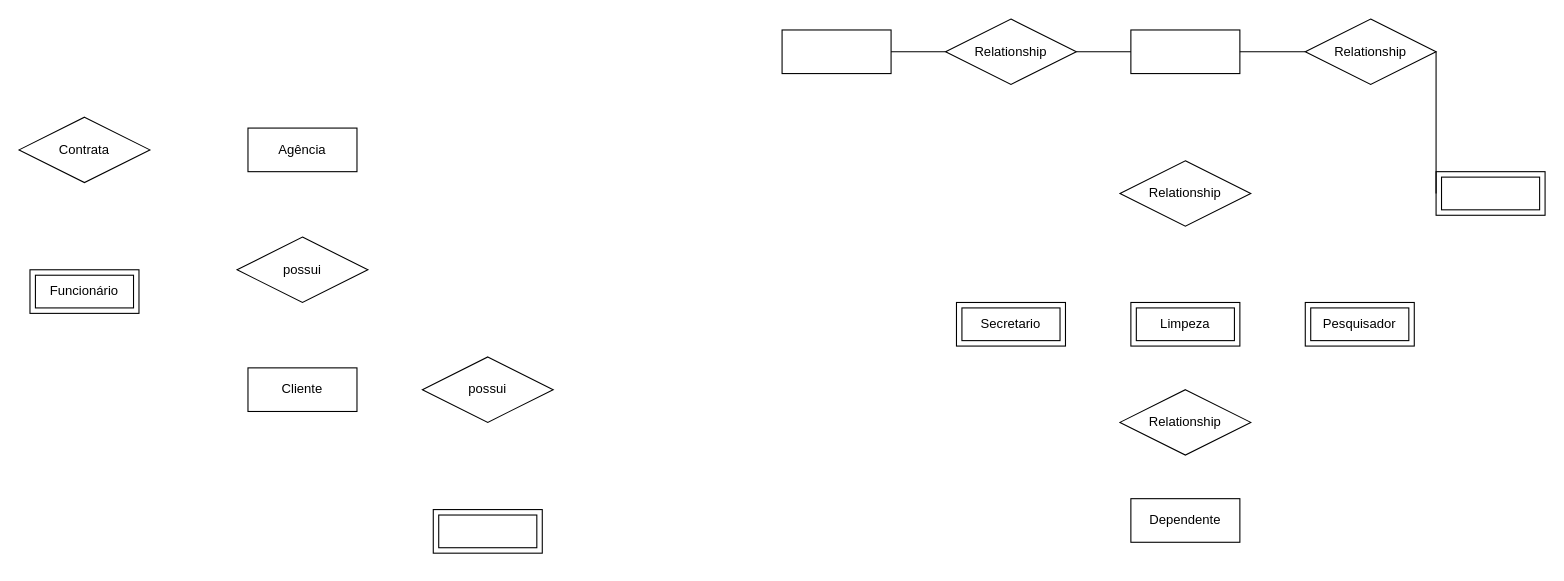
The diagram is 1564 pixels wide and 581 high, and some of its shapes have lost their labels. The shapes that lost their labels are listed below. From the top down, each one's box as (x1, y1, x2, y2) in pixels, then its label:
(781, 29, 891, 74): Companhia
(1130, 29, 1240, 74): Departamento
(1435, 171, 1545, 215): Projeto
(432, 508, 542, 553): Conta
